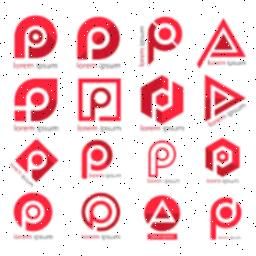p: (204, 192, 246, 244), (146, 17, 186, 69), (79, 134, 115, 182), (80, 190, 120, 232), (12, 86, 52, 122), (18, 22, 52, 60), (147, 138, 179, 178), (19, 196, 49, 232), (86, 86, 114, 120), (26, 148, 52, 180), (209, 144, 235, 176)
